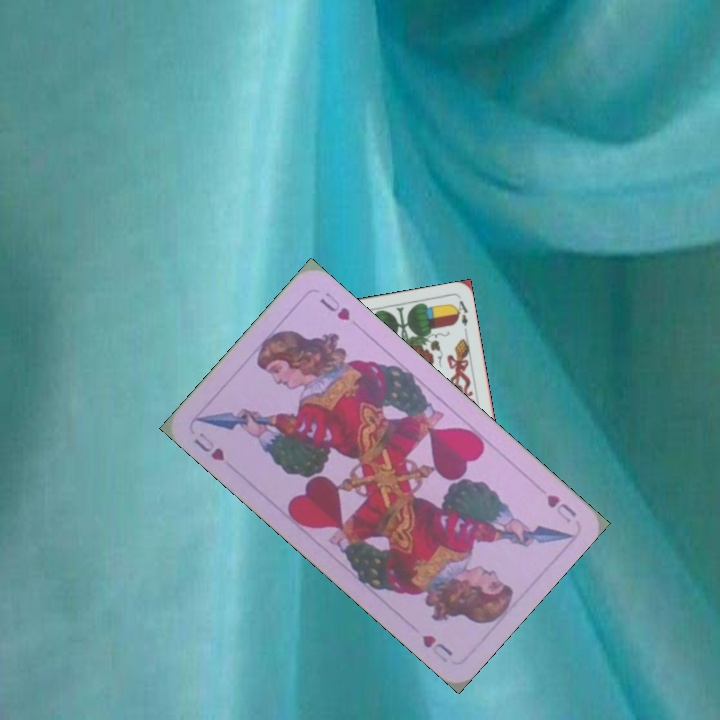HU: (189, 428, 227, 464), (542, 490, 579, 526)
